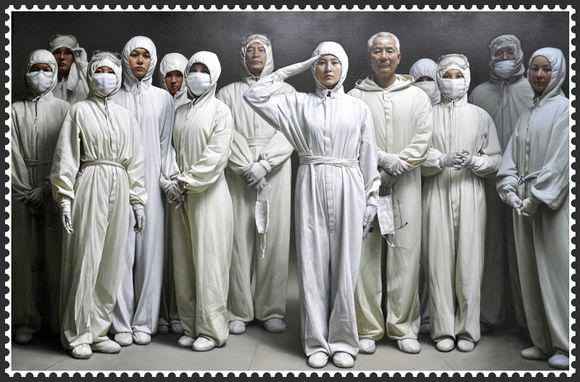NONE: (373, 44, 400, 77), (532, 62, 556, 91), (319, 59, 344, 85), (130, 48, 153, 76), (55, 49, 76, 72), (248, 46, 268, 70), (167, 71, 184, 93)
OK: (186, 66, 214, 96), (30, 67, 56, 94), (441, 72, 467, 99), (93, 68, 118, 95), (418, 75, 438, 98)
WRONG: (493, 48, 520, 76)
